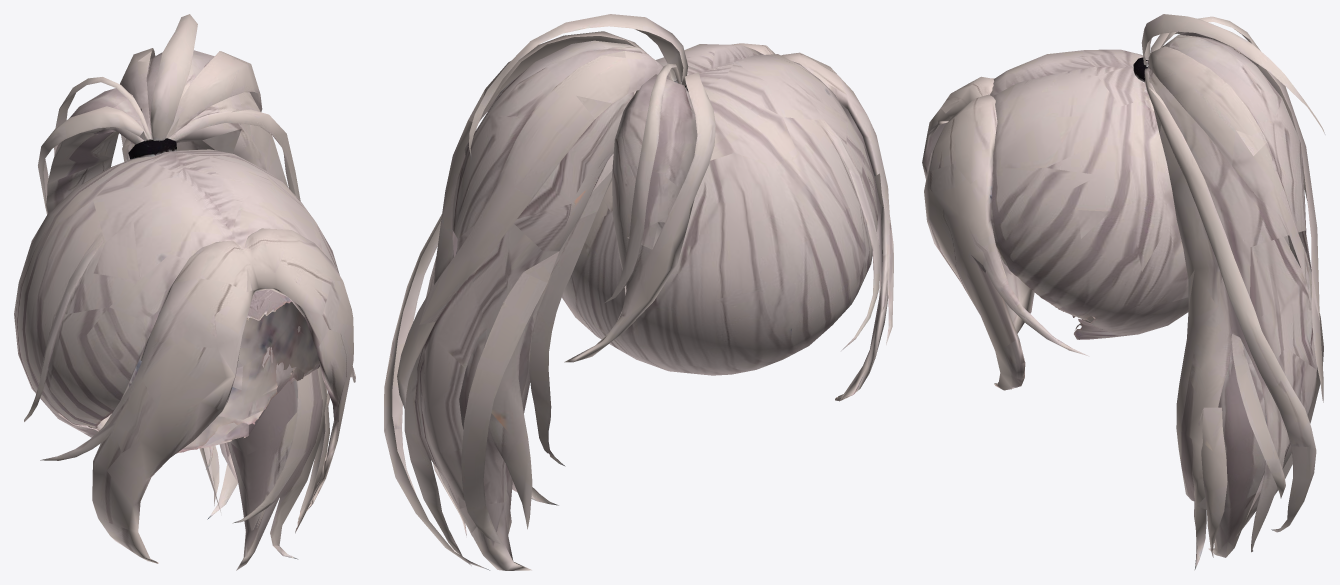
File: ponytail.glb
The picture shows the model from 3 angles, left to right: view 1: azimuth 30°, elevation 25°; view 2: azimuth 150°, elevation 25°; view 3: azimuth 270°, elevation 25°; orthographic projection. The views are drawn at different scales.
Visible parts, largest first — view 1: Mesh_0; view 2: Mesh_0; view 3: Mesh_0.
Boxes of the visible parts, left/top/right/bottom form: Mesh_0: left=14, top=14, right=355, bottom=570; Mesh_0: left=384, top=14, right=893, bottom=570; Mesh_0: left=922, top=14, right=1325, bottom=570.
Size of the model in its own units: 1.42 by 2 by 1.46.
1 material, 1 textured.
